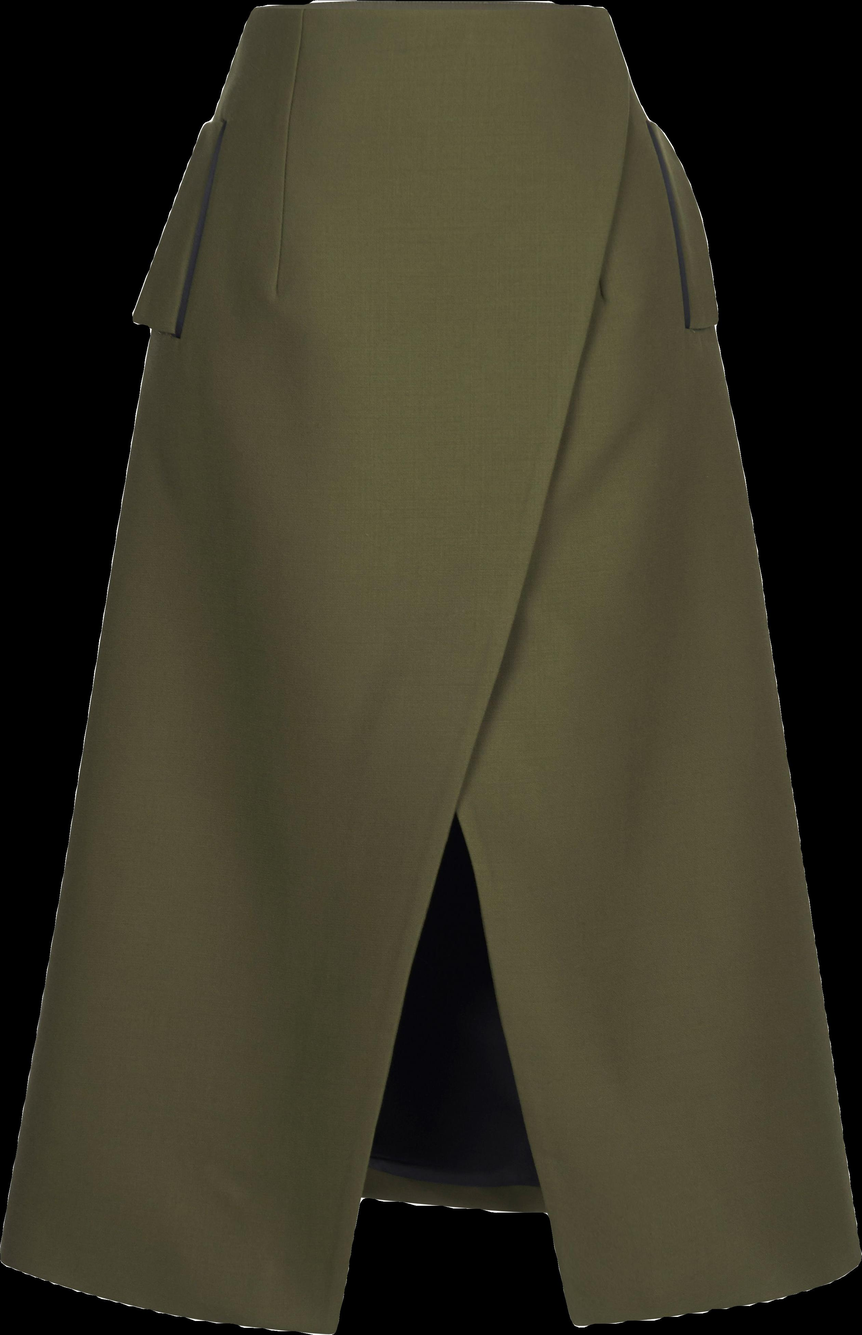Hemline: (0, 78, 643, 1335), (456, 806, 862, 1335)
Waistline: (252, 0, 614, 18)
